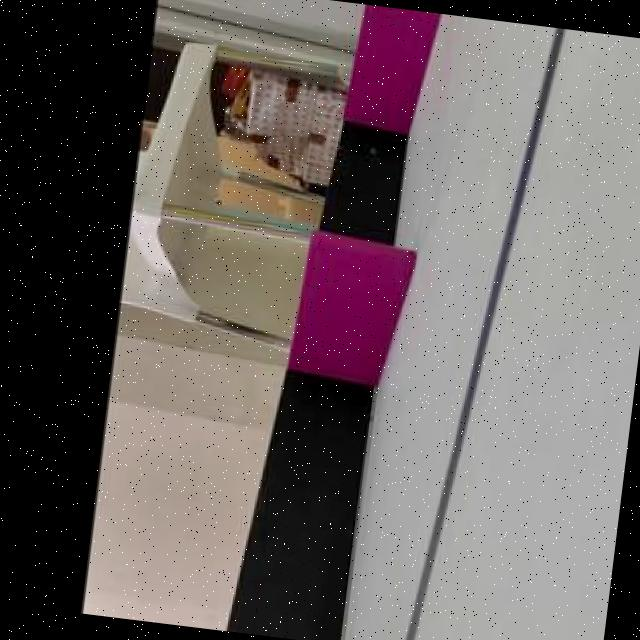xparking: (299, 236, 408, 376), (353, 3, 428, 122)
